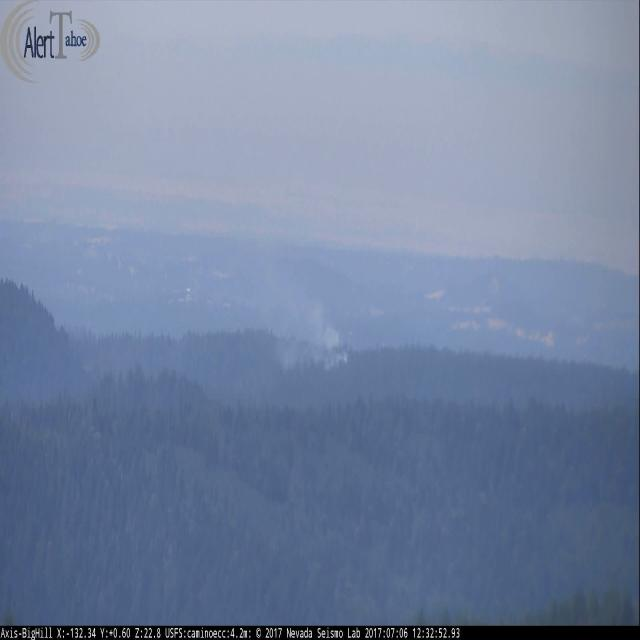smoke: (281, 296, 348, 364)
